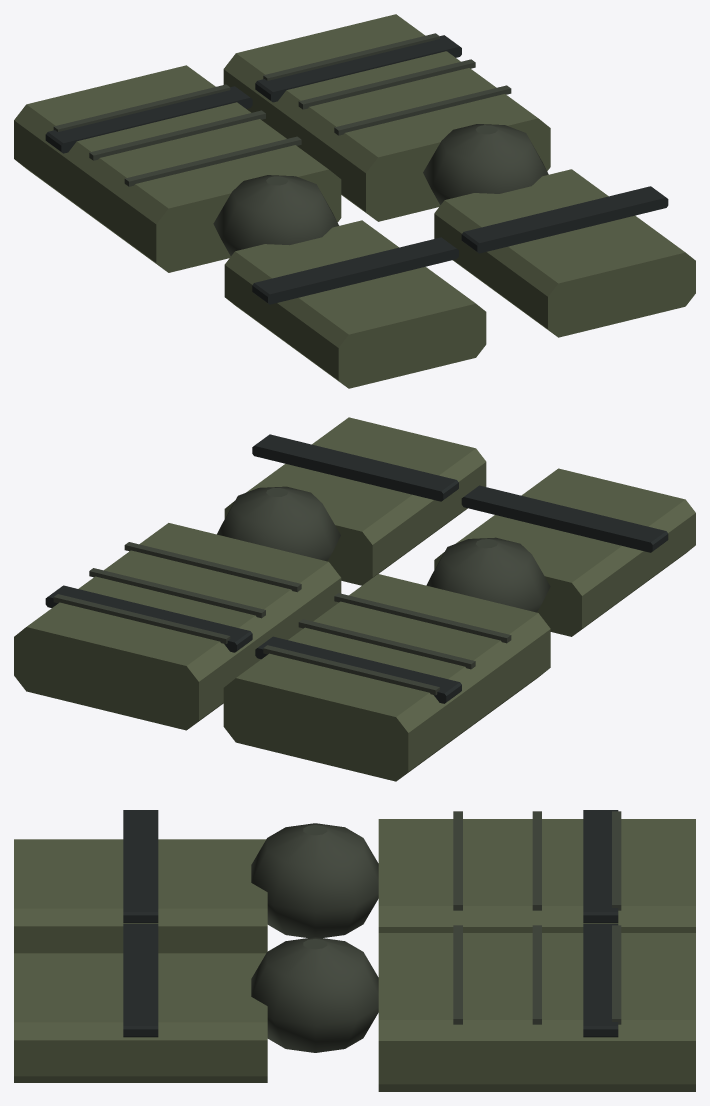
Rendered from FlakLegGuards.gltf.
3 renders of one model, top to bottom at view 1: azimuth 30°, elevation 25°; view 2: azimuth 150°, elevation 25°; view 3: azimuth 270°, elevation 25°, orthographic. The views are drawn at different scales.
Visible parts, largest first — view 1: FlakLegGuards; view 2: FlakLegGuards; view 3: FlakLegGuards.
Part boxes in pixels (x1,y1,x2,y2): FlakLegGuards: [14, 14, 695, 388]; FlakLegGuards: [14, 417, 695, 781]; FlakLegGuards: [14, 810, 695, 1091].
Size of the model in its own units: 0.325 by 0.0725 by 0.43.
